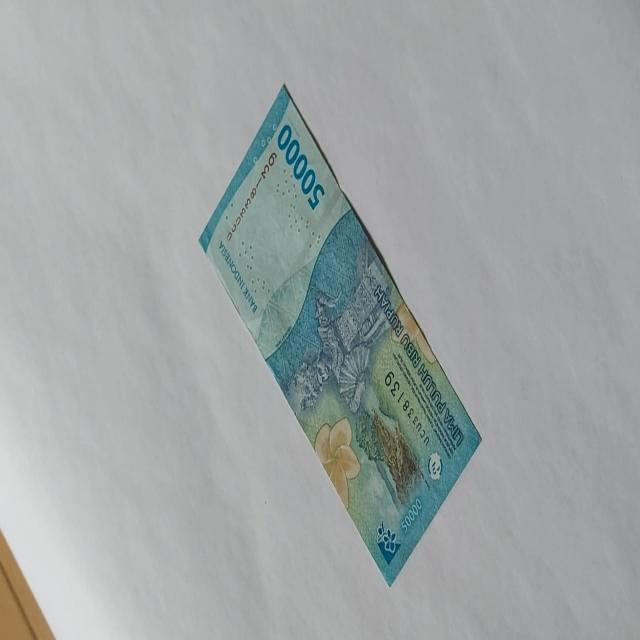lima puluh ribu rupiah: (198, 82, 482, 588), (276, 121, 326, 212)
